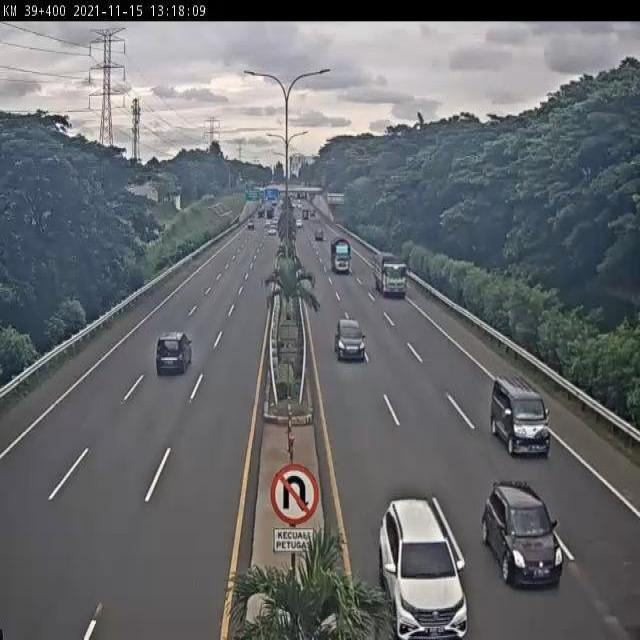car: (377, 498, 470, 640), (481, 478, 564, 590), (490, 373, 552, 460), (155, 328, 194, 376), (335, 316, 367, 363)
truck-l-: (372, 251, 408, 296)
